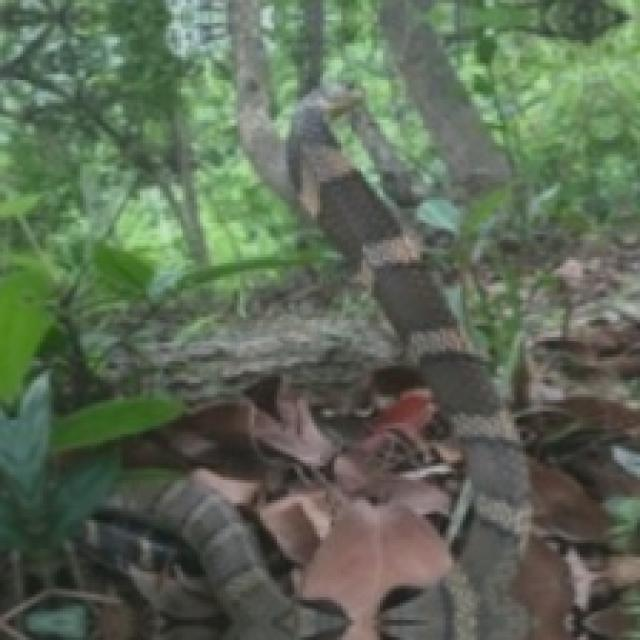king cobra: (286, 91, 554, 637)
